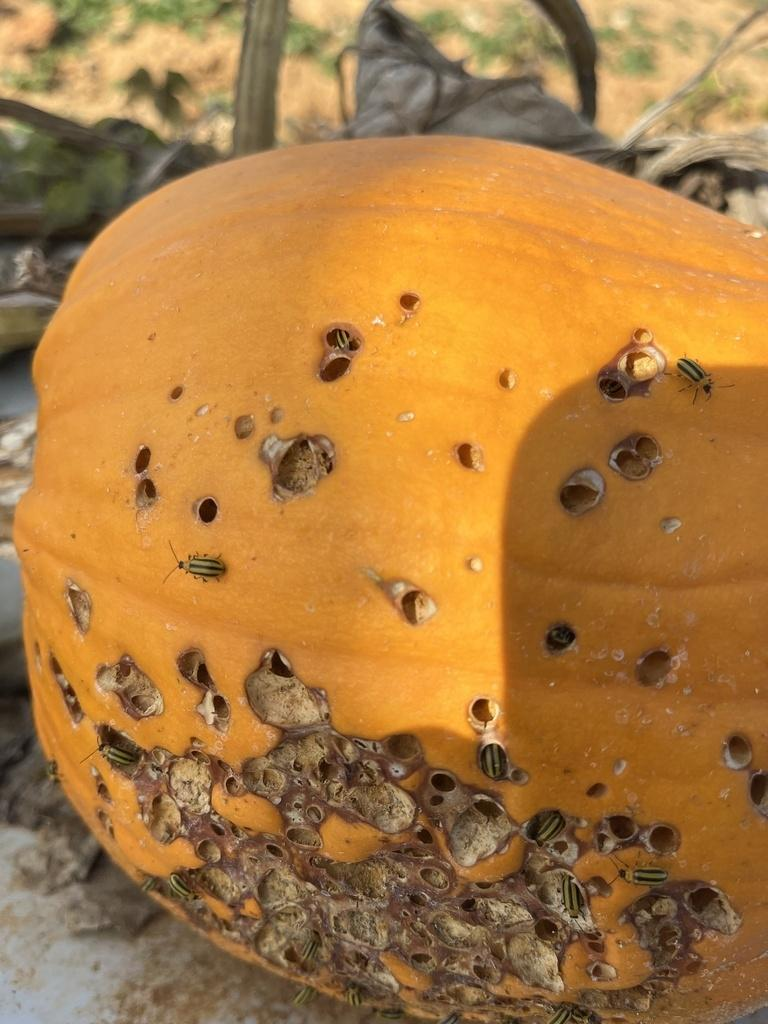potato_beetle: (659, 323, 739, 420), (151, 527, 234, 599)
